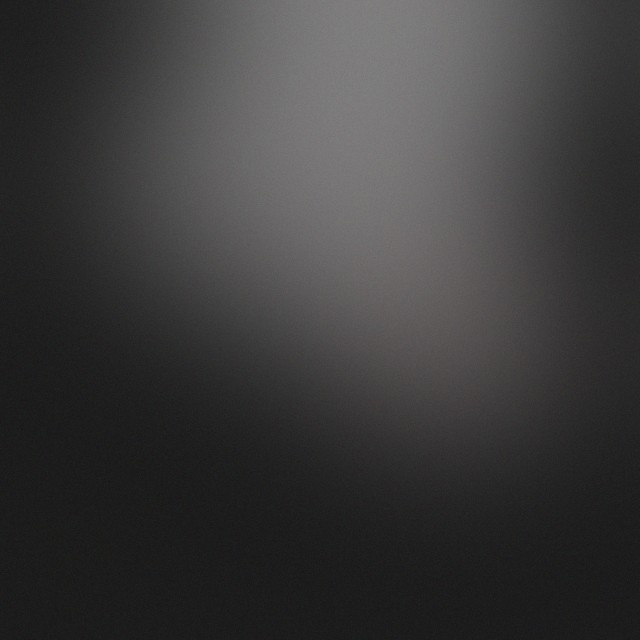smoke: (165, 50, 483, 368)
